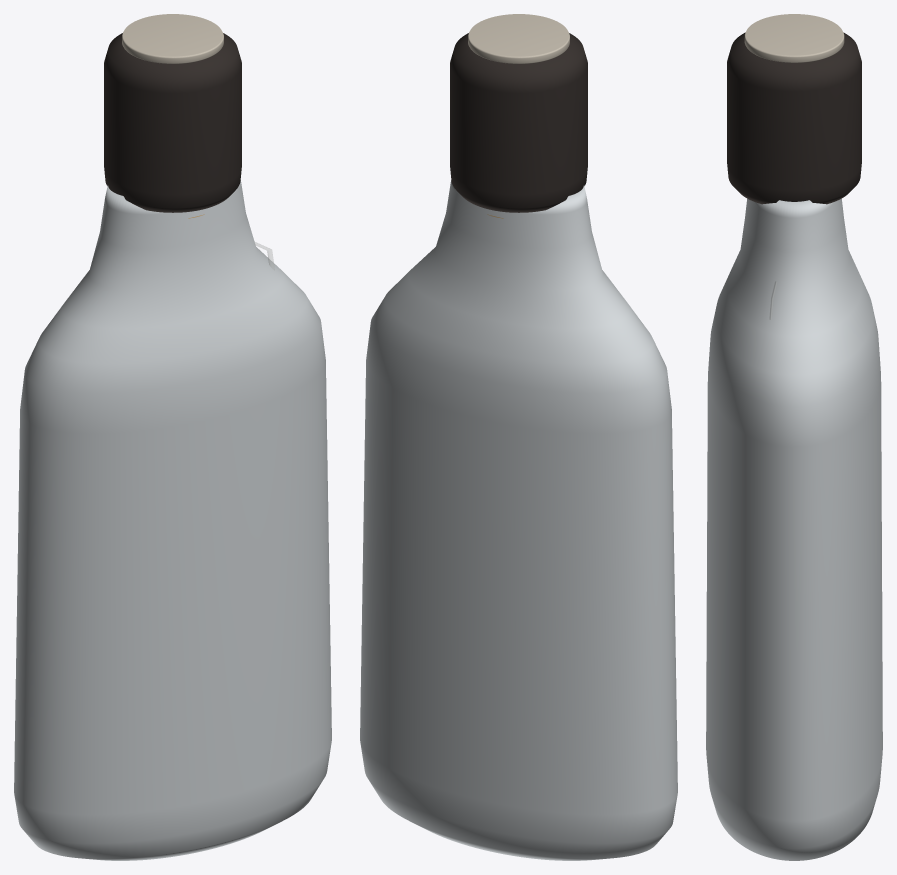
Rendered from citrus-ombre.glb.
The picture shows the model from 3 angles, left to right: view 1: azimuth 30°, elevation 25°; view 2: azimuth 150°, elevation 25°; view 3: azimuth 270°, elevation 25°; orthographic projection. The views are drawn at different scales.
Parts seen in each view (by area): view 1: BottleGlass, CapShell, CapCrown; view 2: BottleGlass, CapShell, CapCrown; view 3: BottleGlass, CapShell, CapCrown.
Boxes of the visible parts, x1,y1,x2,y2 form: BottleGlass: (14, 180, 331, 860); CapShell: (104, 33, 241, 212); CapCrown: (122, 14, 223, 63); BottleGlass: (360, 180, 677, 860); CapShell: (450, 33, 587, 212); CapCrown: (468, 14, 569, 63); BottleGlass: (706, 198, 882, 860); CapShell: (727, 33, 861, 204); CapCrown: (744, 14, 844, 62).
Bounding box in the file's own units: 1.48 × 3.66 × 0.76.
